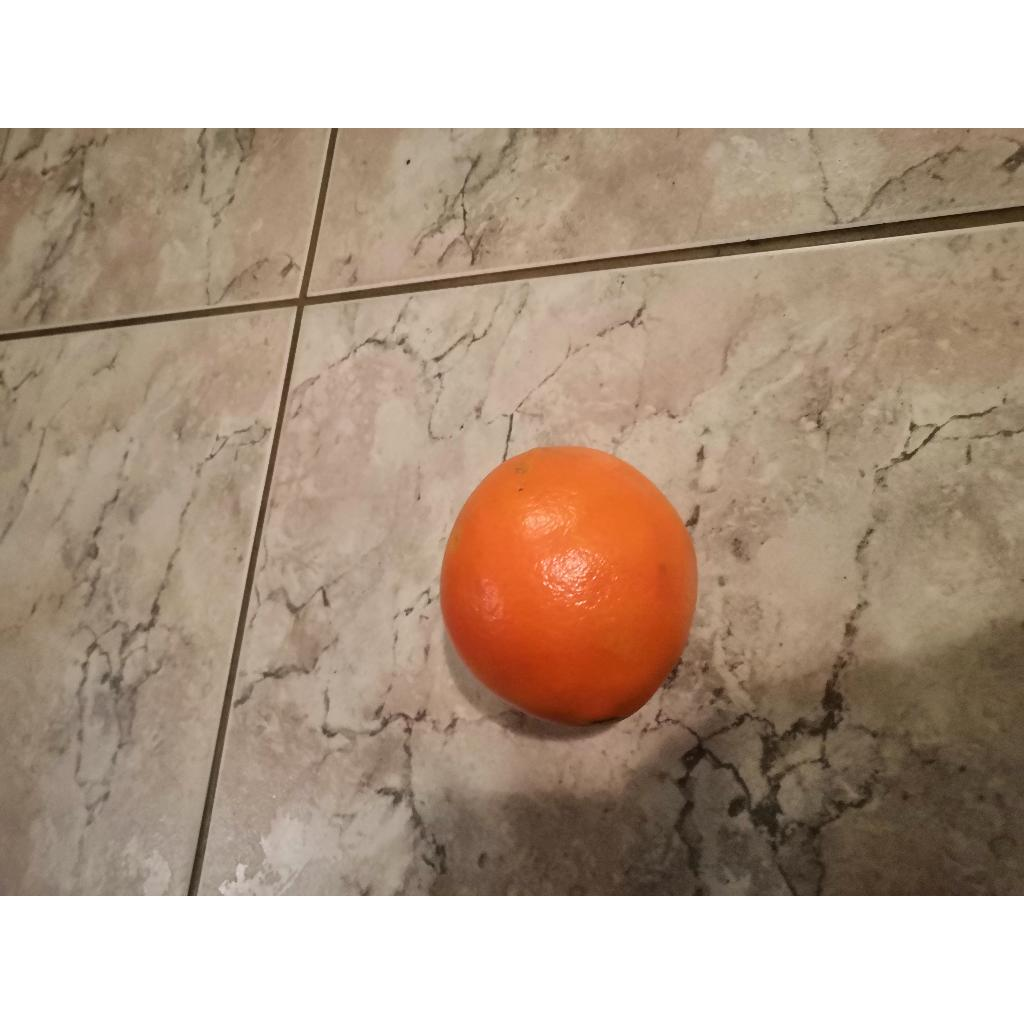orange: (440, 446, 698, 726)
